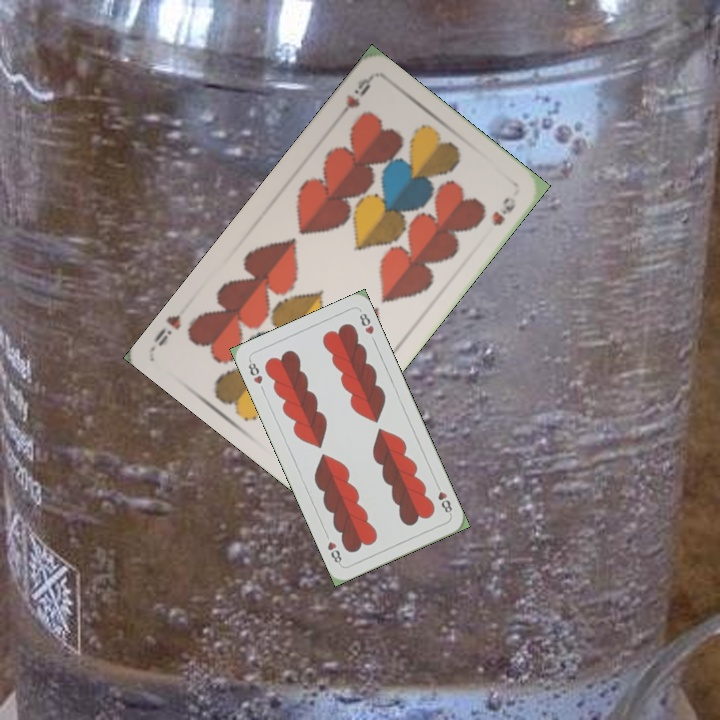H8: (432, 479, 455, 517), (244, 356, 265, 387)
H9: (331, 74, 374, 124)
